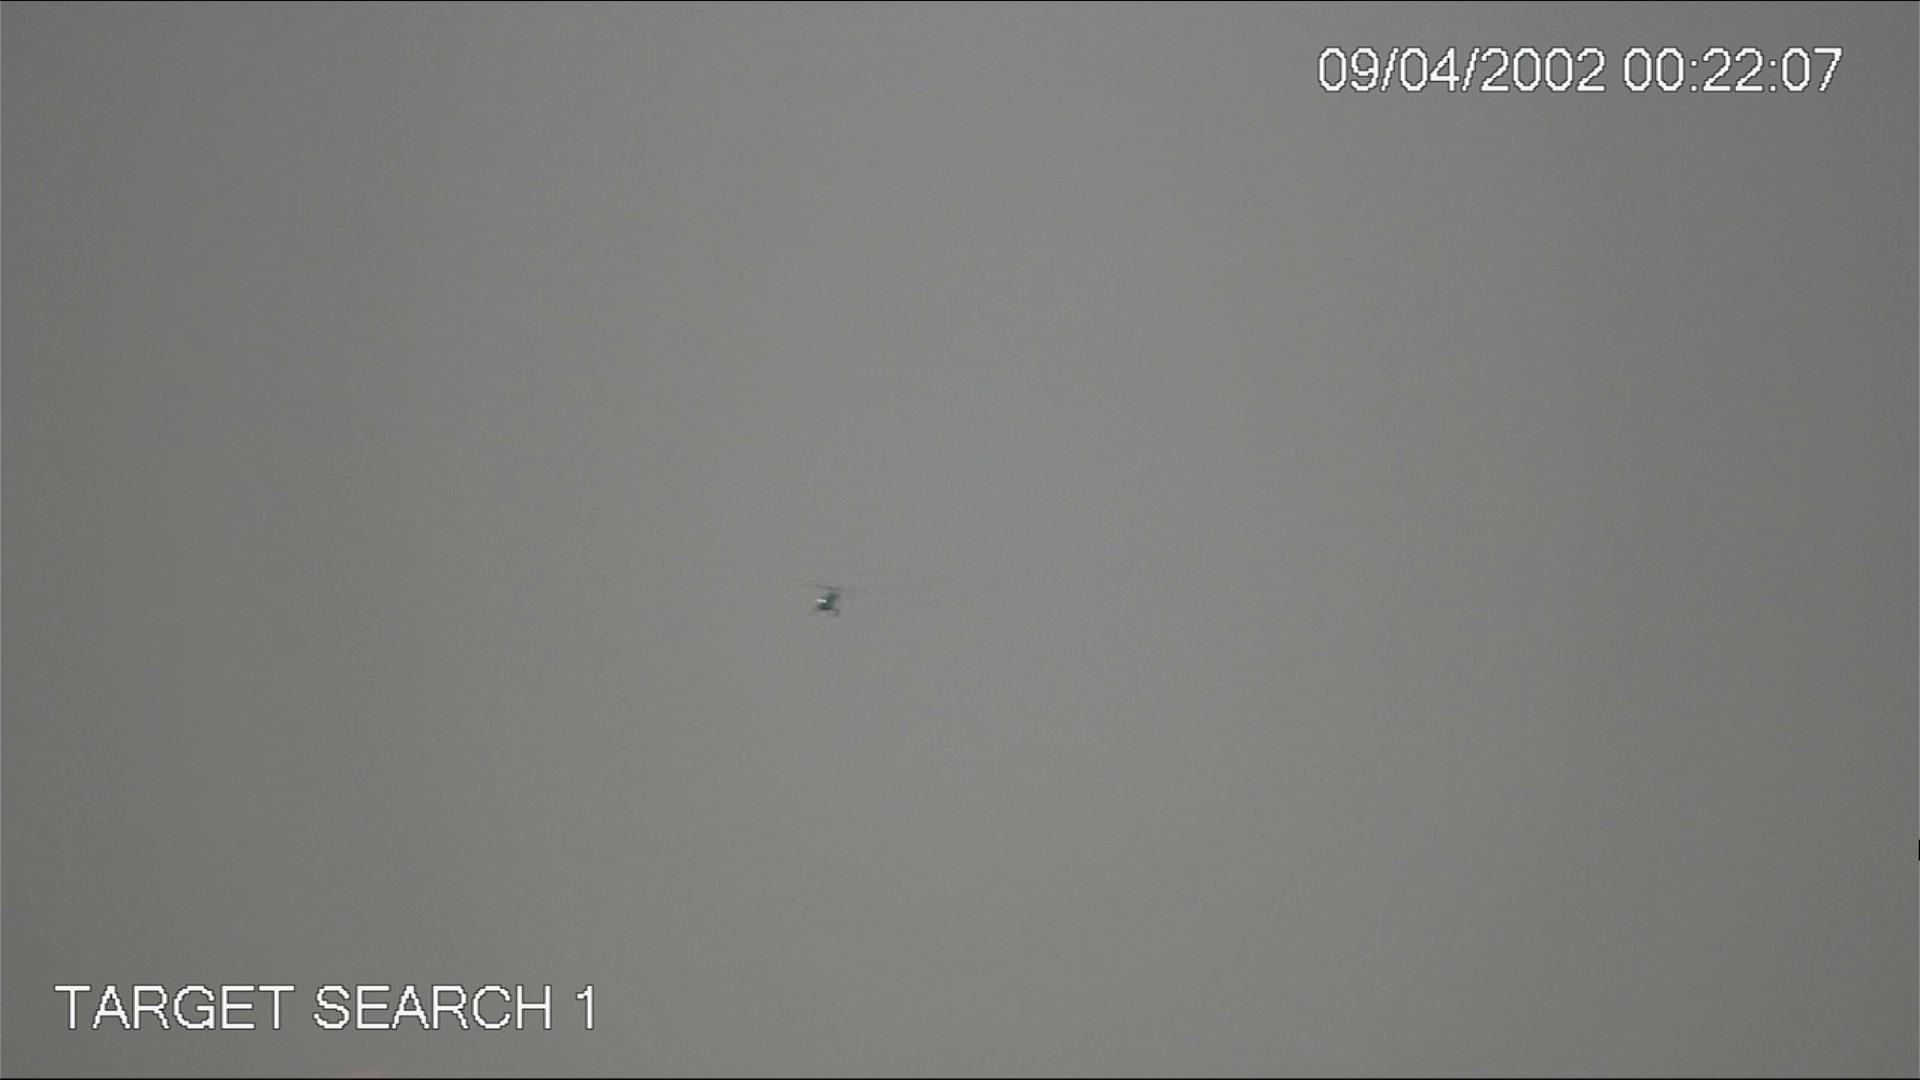SU_30: (804, 579, 851, 615)
